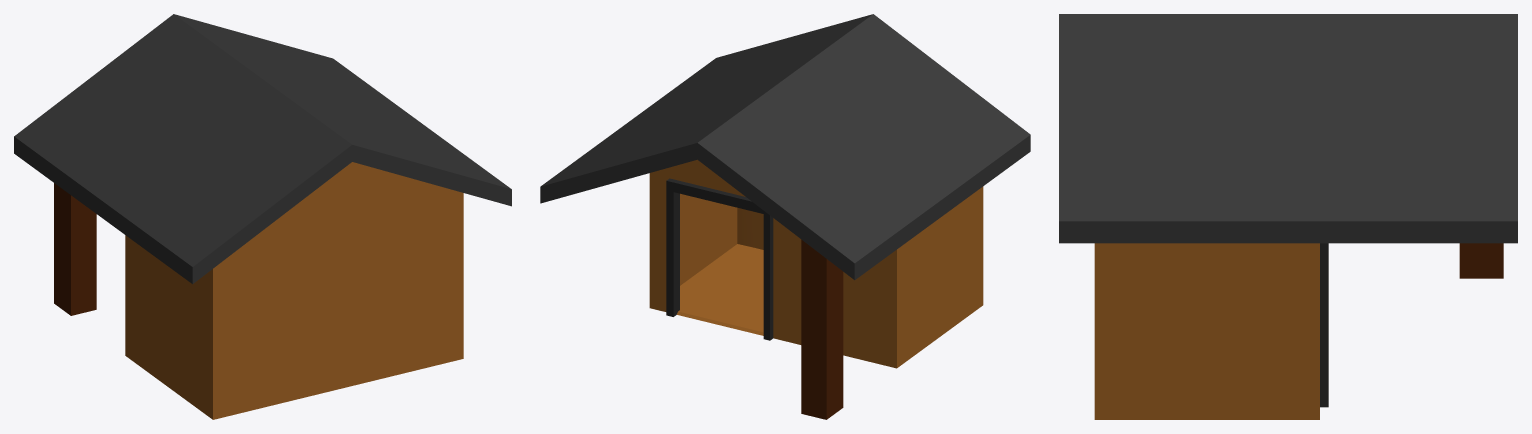
Rendered from DogHouse.fbx.
3 views of the same model, side by side, from view 1: azimuth 30°, elevation 25°; view 2: azimuth 150°, elevation 25°; view 3: azimuth 270°, elevation 25° (orthographic). The views are drawn at different scales.
Parts seen in each view (by area): view 1: pCube3, pCube1, pCube2; view 2: pCube3, pCube1, pCube2, pCube4; view 3: pCube3, pCube1, pCube2, pCube4.
Part boxes in pixels (<box>): pCube3: <box>14,14,511,284</box>; pCube1: <box>125,162,463,419</box>; pCube2: <box>54,183,96,315</box>; pCube3: <box>540,14,1030,280</box>; pCube1: <box>649,159,983,368</box>; pCube2: <box>801,239,843,419</box>; pCube4: <box>666,178,773,340</box>; pCube3: <box>1059,14,1517,243</box>; pCube1: <box>1094,243,1319,419</box>; pCube2: <box>1459,243,1503,278</box>; pCube4: <box>1320,243,1328,407</box>.
Size of the model in its own units: 3.52 by 2.69 by 3.41.
1 material, 1 textured.
